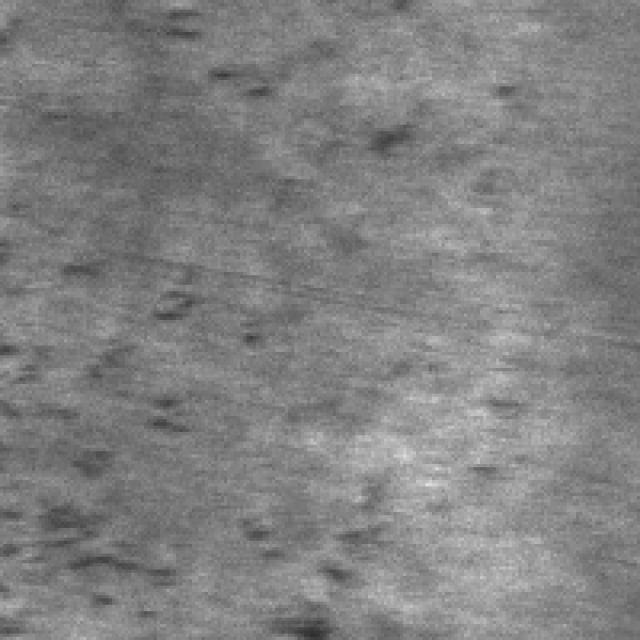rolled-in_scale: (6, 352, 404, 624), (218, 67, 540, 221)
